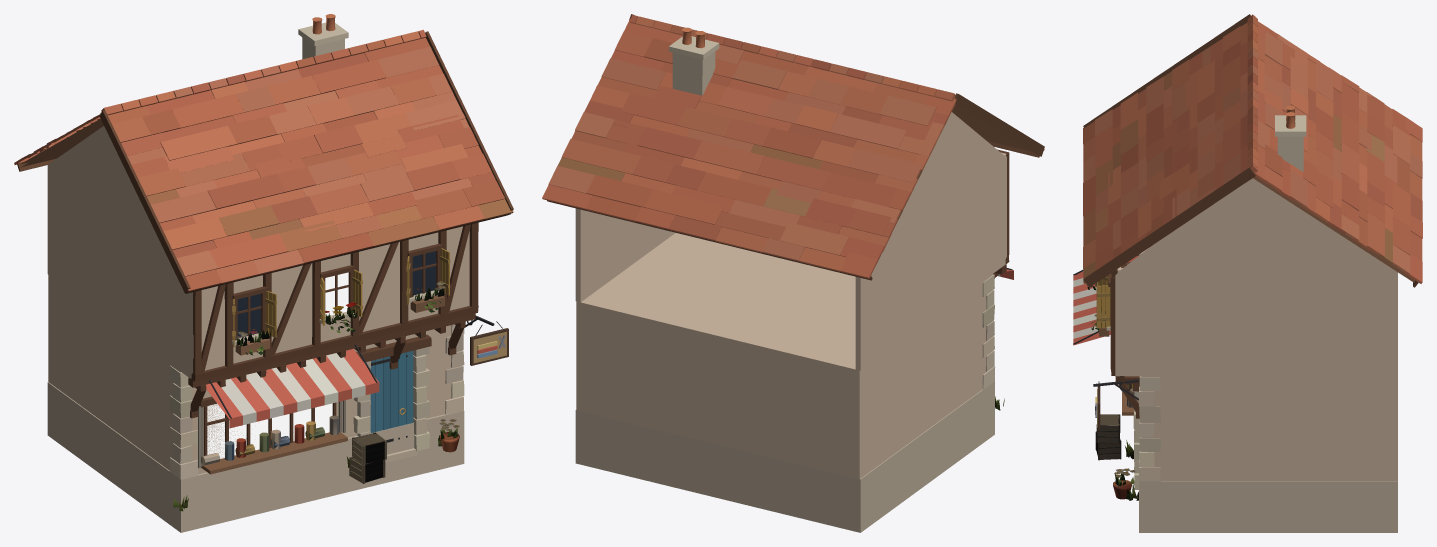
The model's file is tienda_toldo.glb.
3 views of the same model, side by side, from view 1: azimuth 30°, elevation 25°; view 2: azimuth 150°, elevation 25°; view 3: azimuth 270°, elevation 25° (orthographic). The views are drawn at different scales.
Visible parts, largest first — view 1: tienda_toldo_fijo, tienda_toldo_piezas, tienda_toldo_vegetacion; view 2: tienda_toldo_fijo; view 3: tienda_toldo_fijo, tienda_toldo_piezas, tienda_toldo_vegetacion.
Boxes of the visible parts, x1,y1,x2,y2 form: tienda_toldo_fijo: (14,14,513,532); tienda_toldo_piezas: (201,415,459,483); tienda_toldo_vegetacion: (173,281,459,511); tienda_toldo_fijo: (542,14,1044,532); tienda_toldo_fijo: (1073,14,1422,532); tienda_toldo_piezas: (1095,384,1134,499); tienda_toldo_vegetacion: (1087,283,1138,500).
Bounding box in the file's own units: 7.87 × 9.27 × 7.48.
